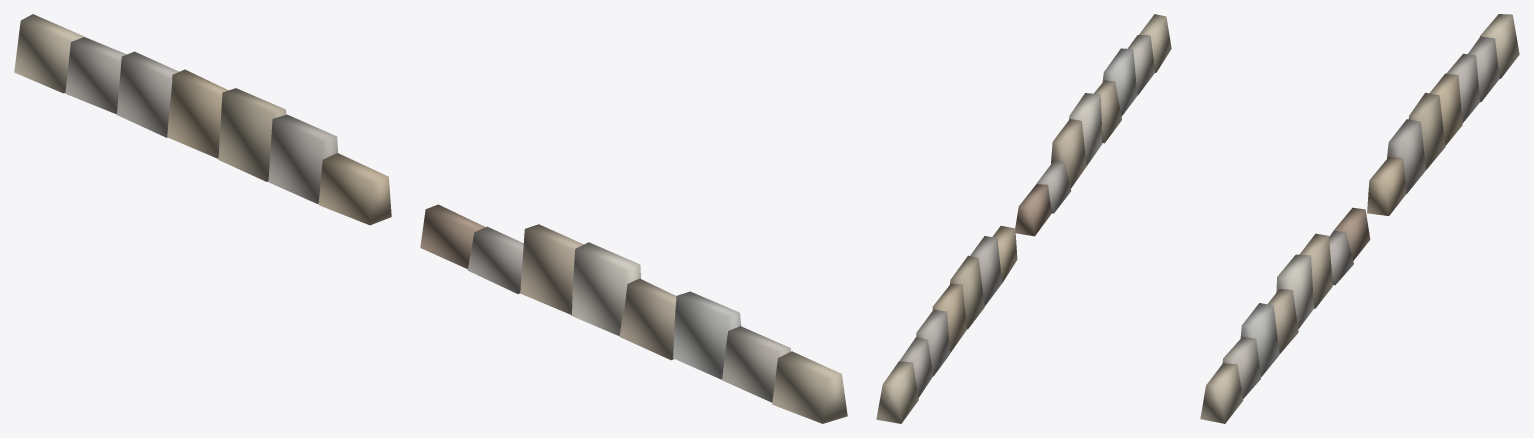
The model's file is farm_5_1_far.glb.
3 views of the same model, side by side, from view 1: azimuth 30°, elevation 25°; view 2: azimuth 150°, elevation 25°; view 3: azimuth 330°, elevation 25° (orthographic). The views are drawn at different scales.
Parts seen in each view (by area): view 1: geometry_0; view 2: geometry_0; view 3: geometry_0.
Boxes of the visible parts, bbox=[...] form: geometry_0: bbox=[14, 14, 847, 423]; geometry_0: bbox=[876, 14, 1171, 423]; geometry_0: bbox=[1200, 14, 1519, 423].
Size of the model in its own units: 5.9 by 1.88 by 24.25.
